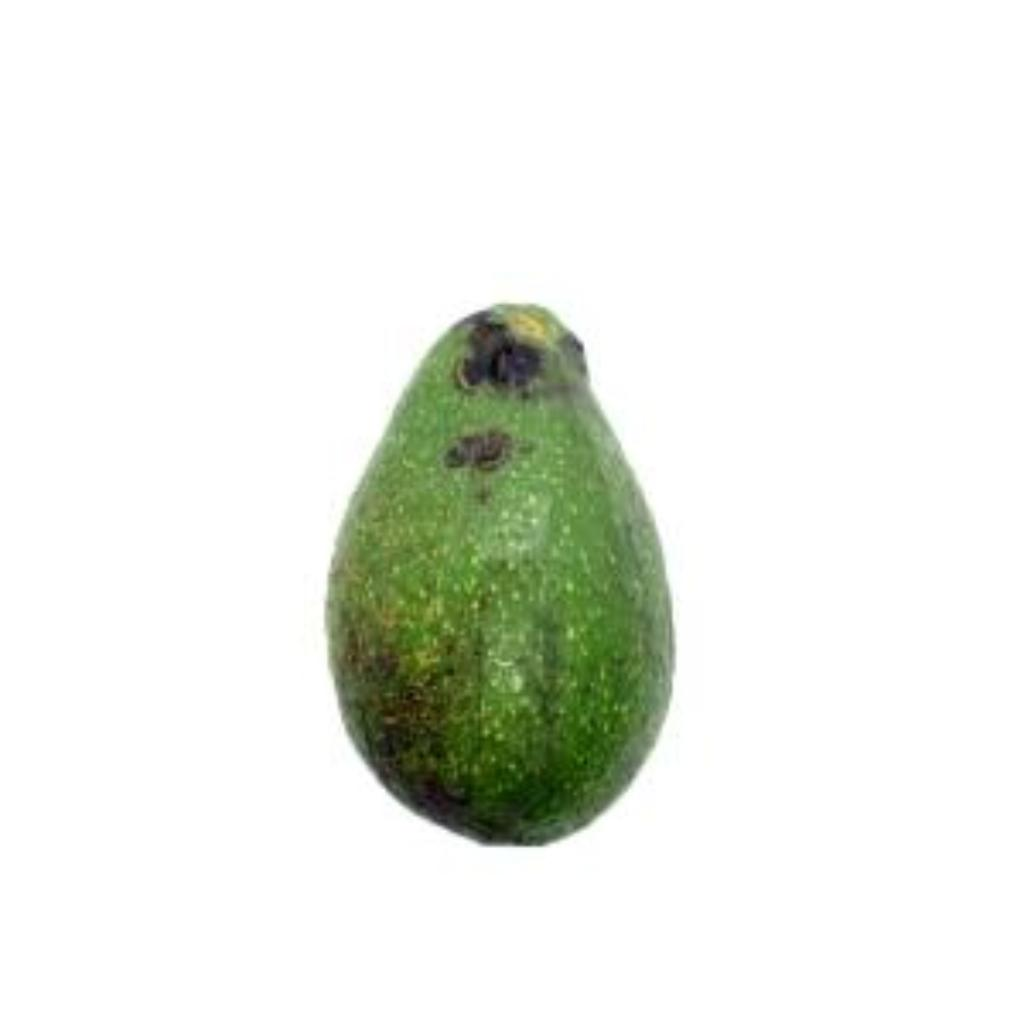cercospora: (325, 287, 695, 847)
